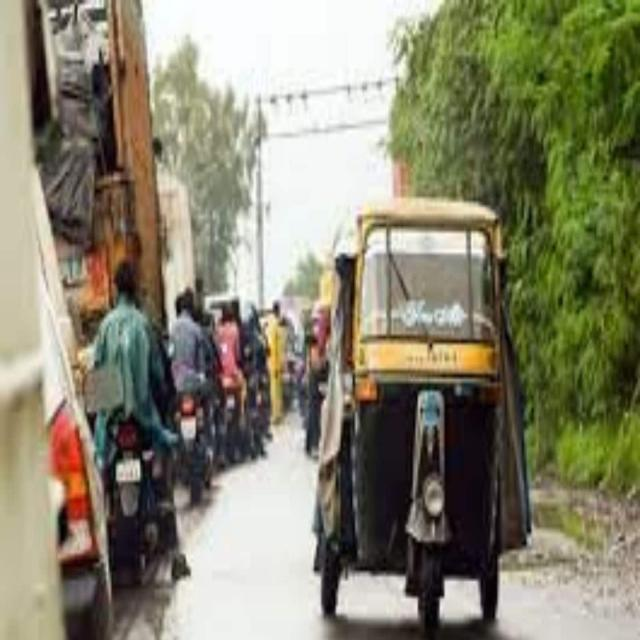autorikshaw: (322, 199, 502, 623)
